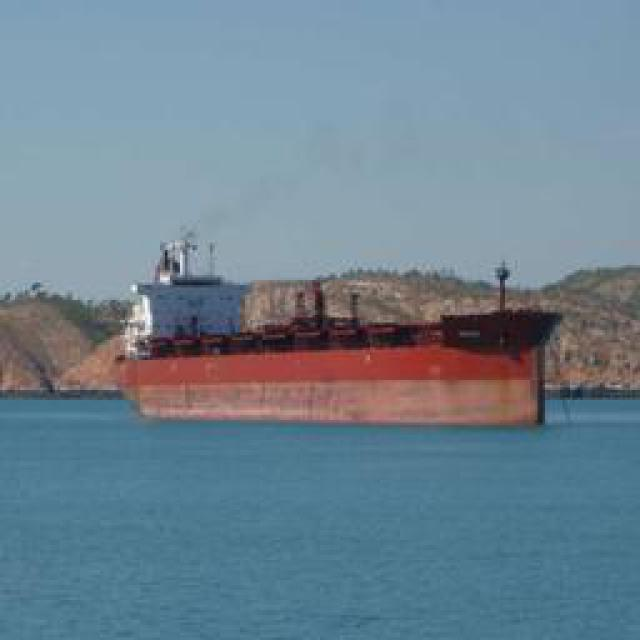Ship: (118, 286, 573, 426)
